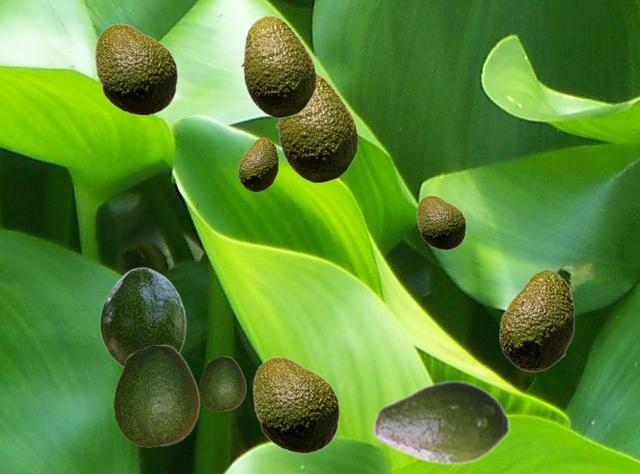avocado: (372, 379, 510, 465), (275, 73, 358, 182), (113, 344, 199, 446), (99, 267, 185, 367), (252, 356, 339, 453), (240, 15, 316, 117), (94, 23, 177, 115), (499, 269, 573, 371), (416, 195, 465, 249), (199, 356, 245, 410), (238, 137, 277, 191)
